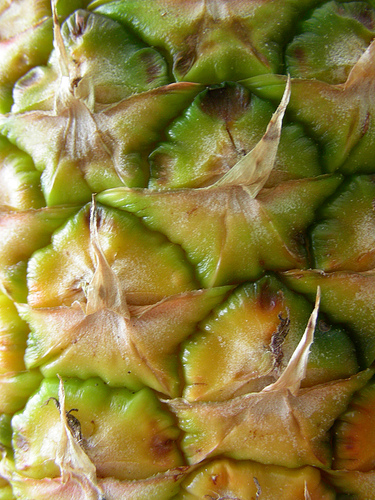pineapple: (1, 1, 373, 498)
